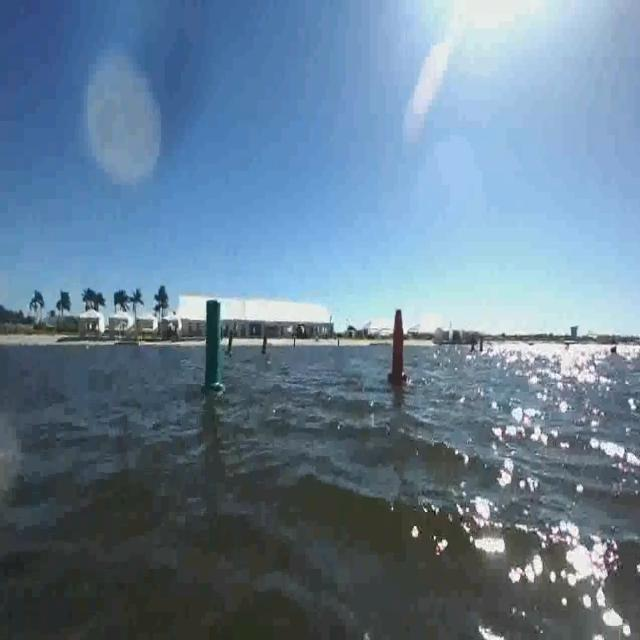green-column-buoy: (200, 299, 225, 396), (226, 332, 233, 355)
red-column-buoy: (388, 308, 408, 385), (262, 335, 271, 356)
